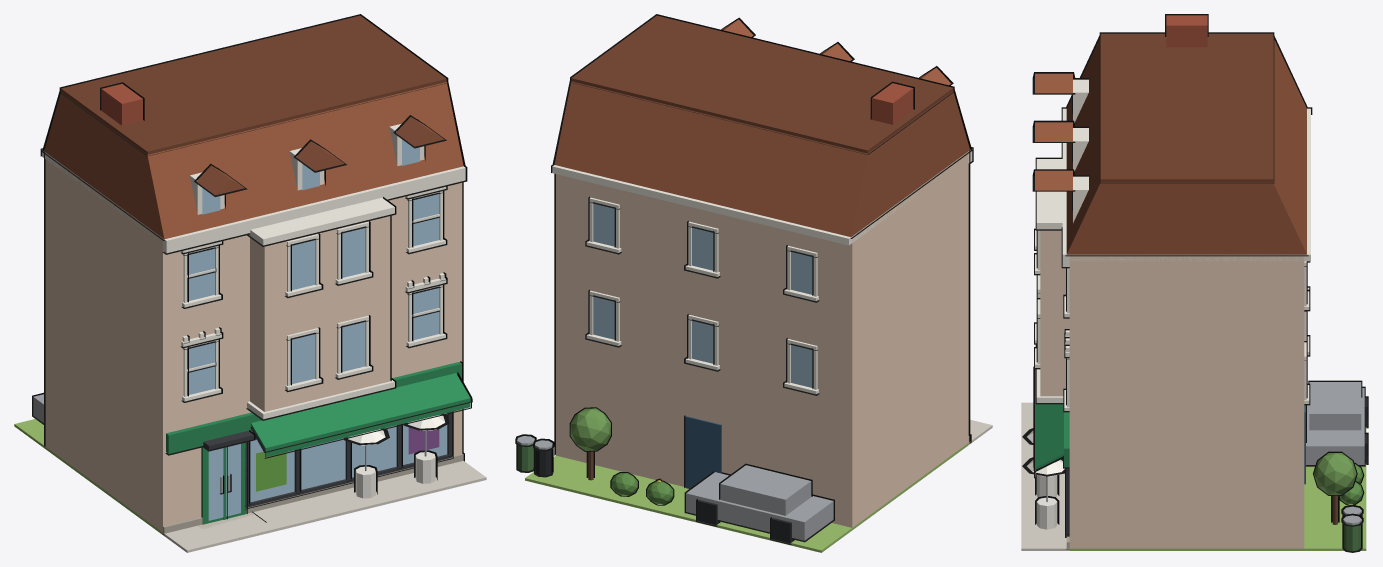
File: Blok_duz_3k_4.fbx
3 renders of one model, left to right at view 1: azimuth 30°, elevation 25°; view 2: azimuth 150°, elevation 25°; view 3: azimuth 270°, elevation 25°, orthographic.
Parts seen in each view (by area): view 1: Blok_duz_3k_4; view 2: Blok_duz_3k_4; view 3: Blok_duz_3k_4.
Part boxes in pixels (x1=…): Blok_duz_3k_4: x1=14, y1=14, x2=486, y2=552; Blok_duz_3k_4: x1=515, y1=14, x2=992, y2=552; Blok_duz_3k_4: x1=1021, y1=14, x2=1368, y2=552.
Bounding box in the file's own units: 10.57 × 12.68 × 10.07.
